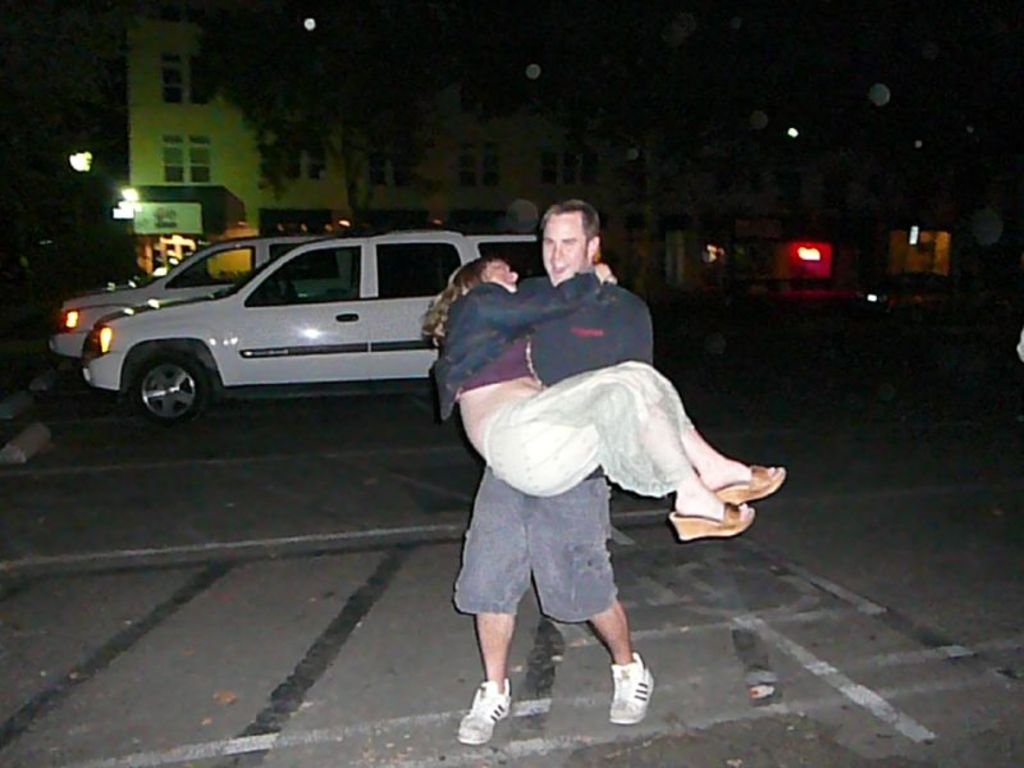Car: (74, 221, 545, 422), (47, 231, 352, 369)
